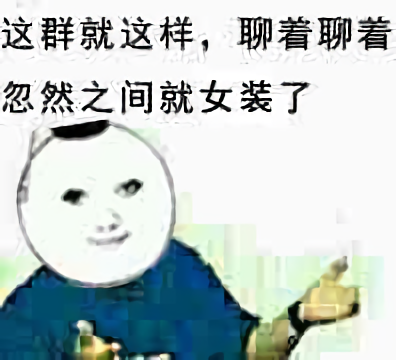dragon: (61, 173, 148, 252)
